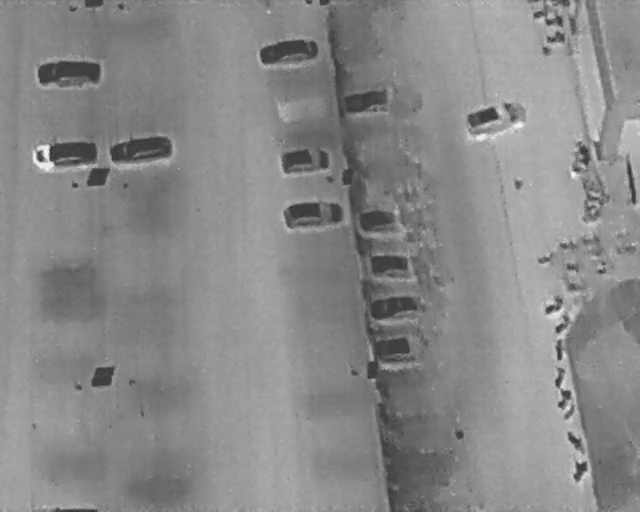Car: (461, 93, 531, 143), (29, 136, 99, 174), (106, 129, 174, 168), (282, 195, 346, 233), (257, 35, 320, 67), (36, 58, 101, 88), (278, 143, 333, 177), (369, 291, 429, 322), (375, 334, 430, 365), (343, 88, 398, 115), (357, 204, 408, 233), (371, 253, 420, 277)
